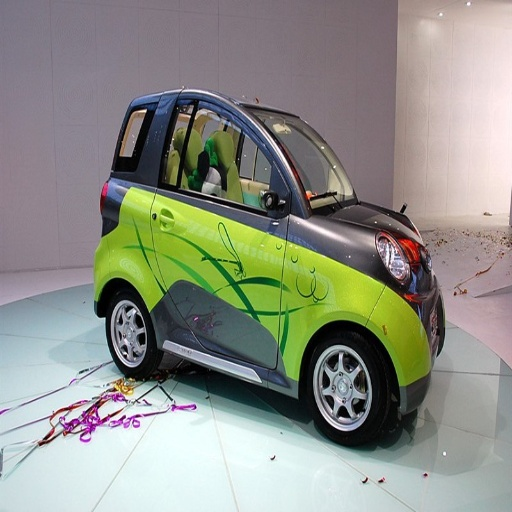front_right_door: (193, 95, 292, 367)
front_right_light: (375, 235, 417, 297)
